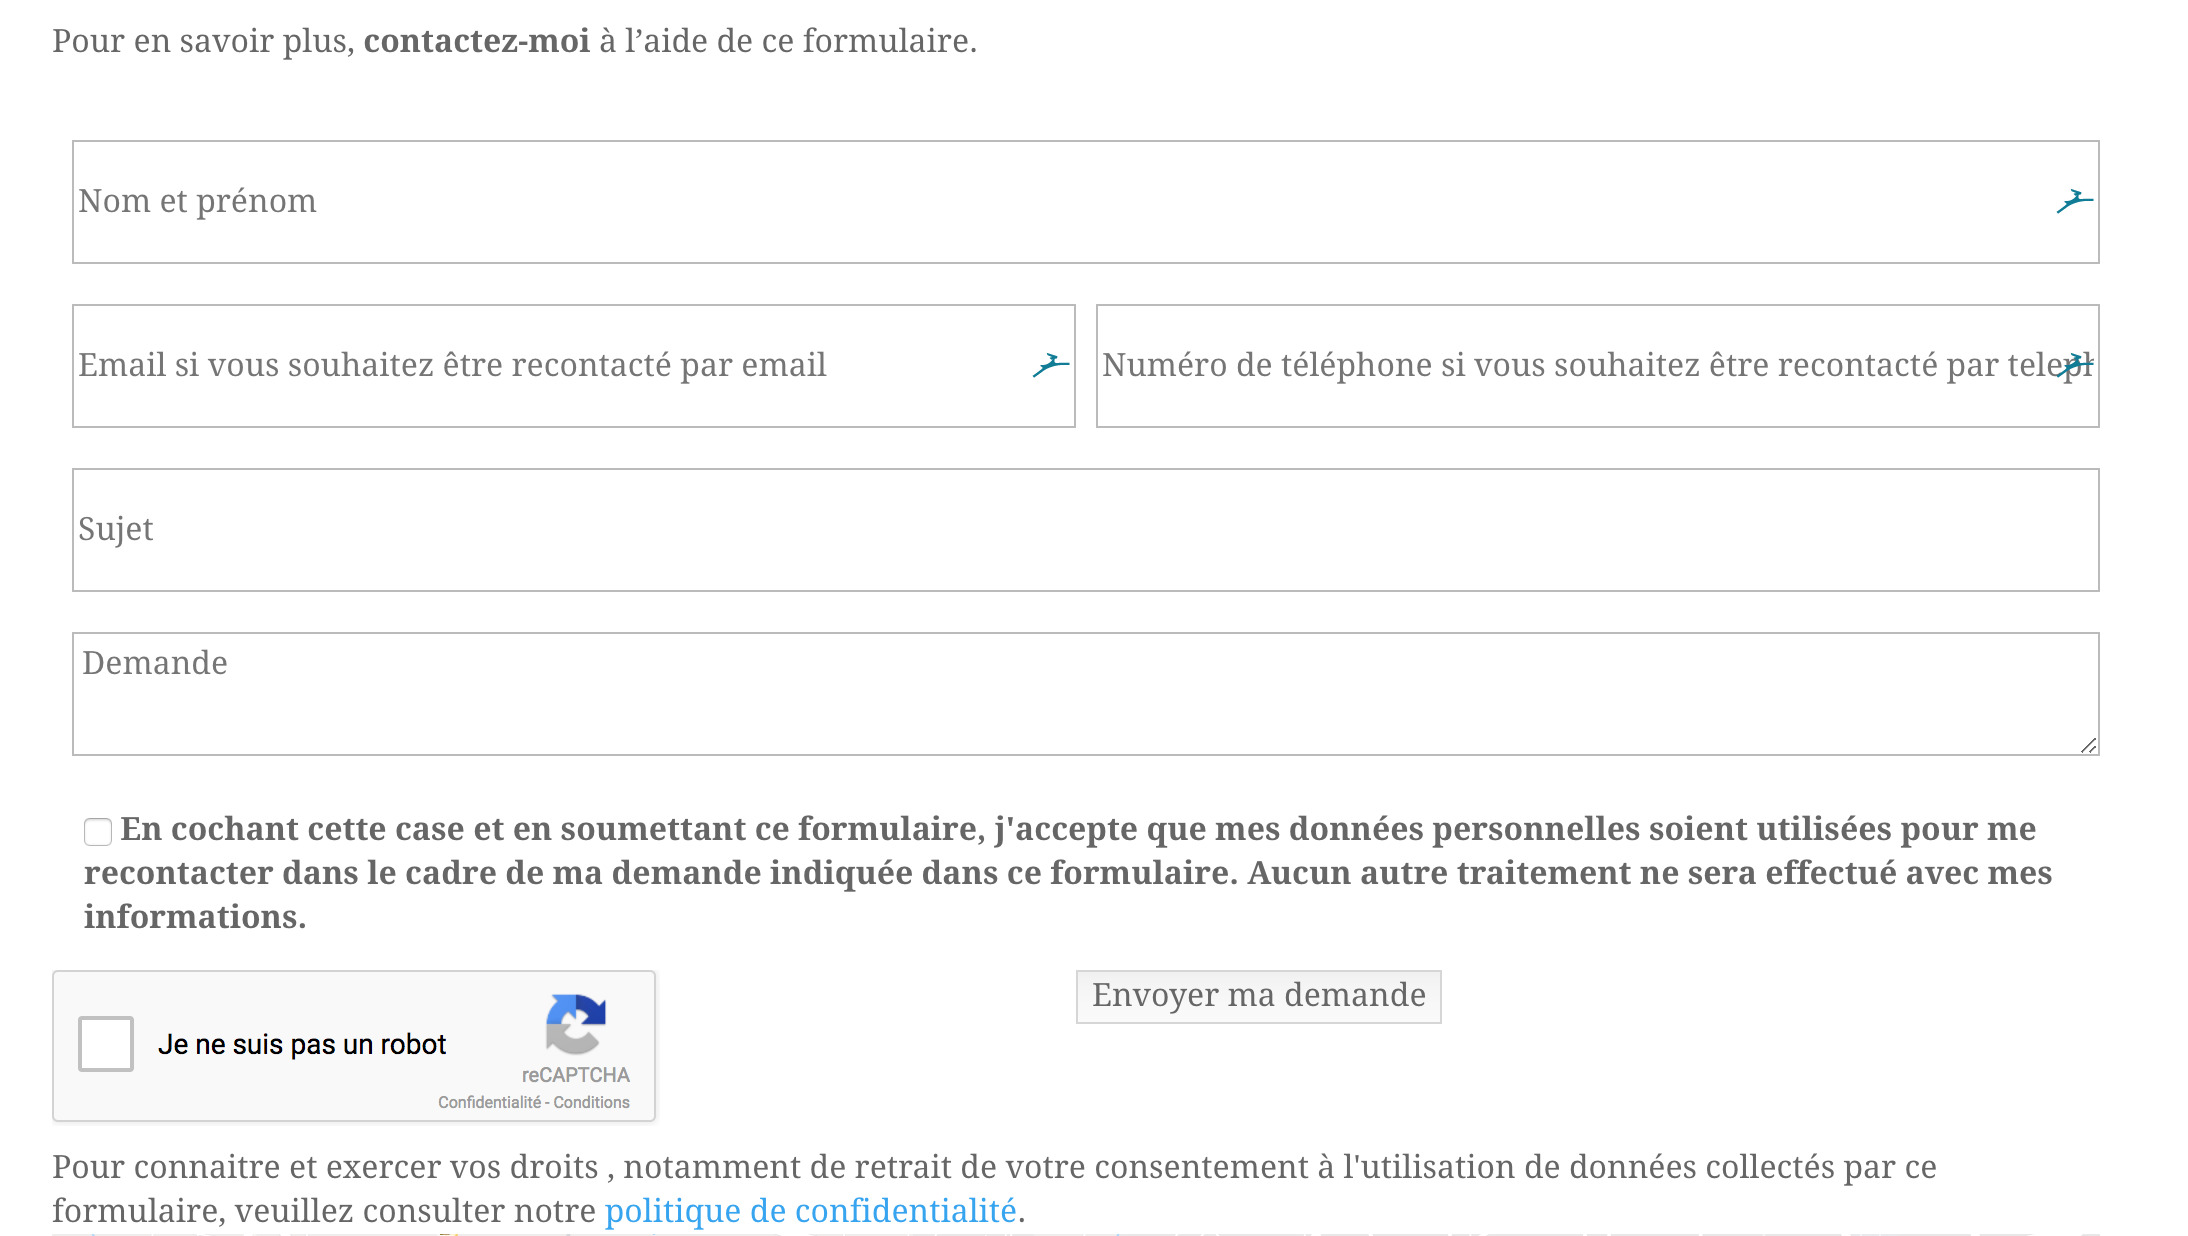_form_: (53, 123, 2138, 1128)
button: (1067, 965, 1453, 1028)
checkbox: (65, 1010, 146, 1077), (71, 804, 128, 862)
checkbox_with_label: (65, 798, 2041, 865), (57, 1001, 449, 1086)
field: (72, 632, 2111, 767), (71, 465, 2102, 600), (68, 138, 2102, 271), (71, 302, 1082, 433), (1088, 301, 2102, 429)
